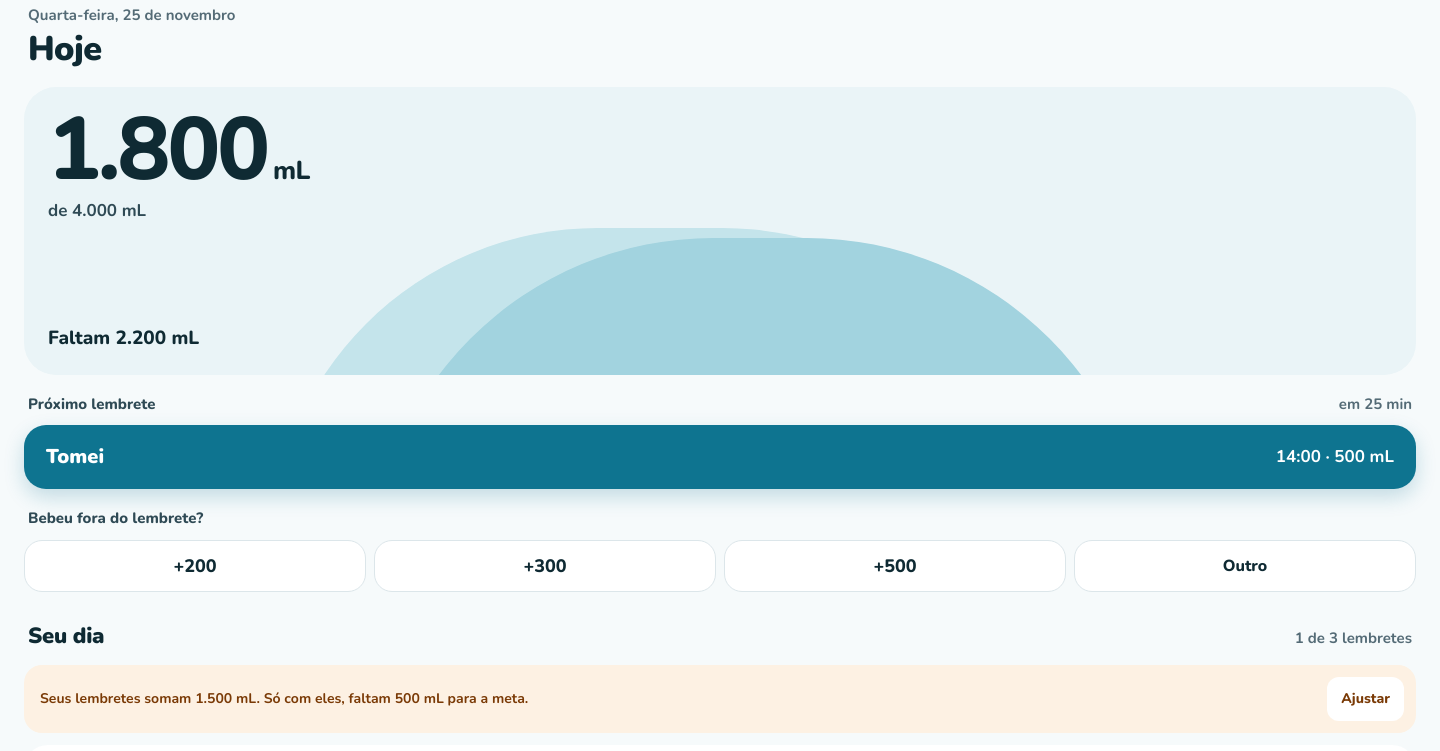
Test: WaterTodayPage (design "Módulo Água") › botão rápido +300 registra 300 mL
Click the button named "Registrar 300 mL" at coordinates (545, 566), box [374,540,716,592]
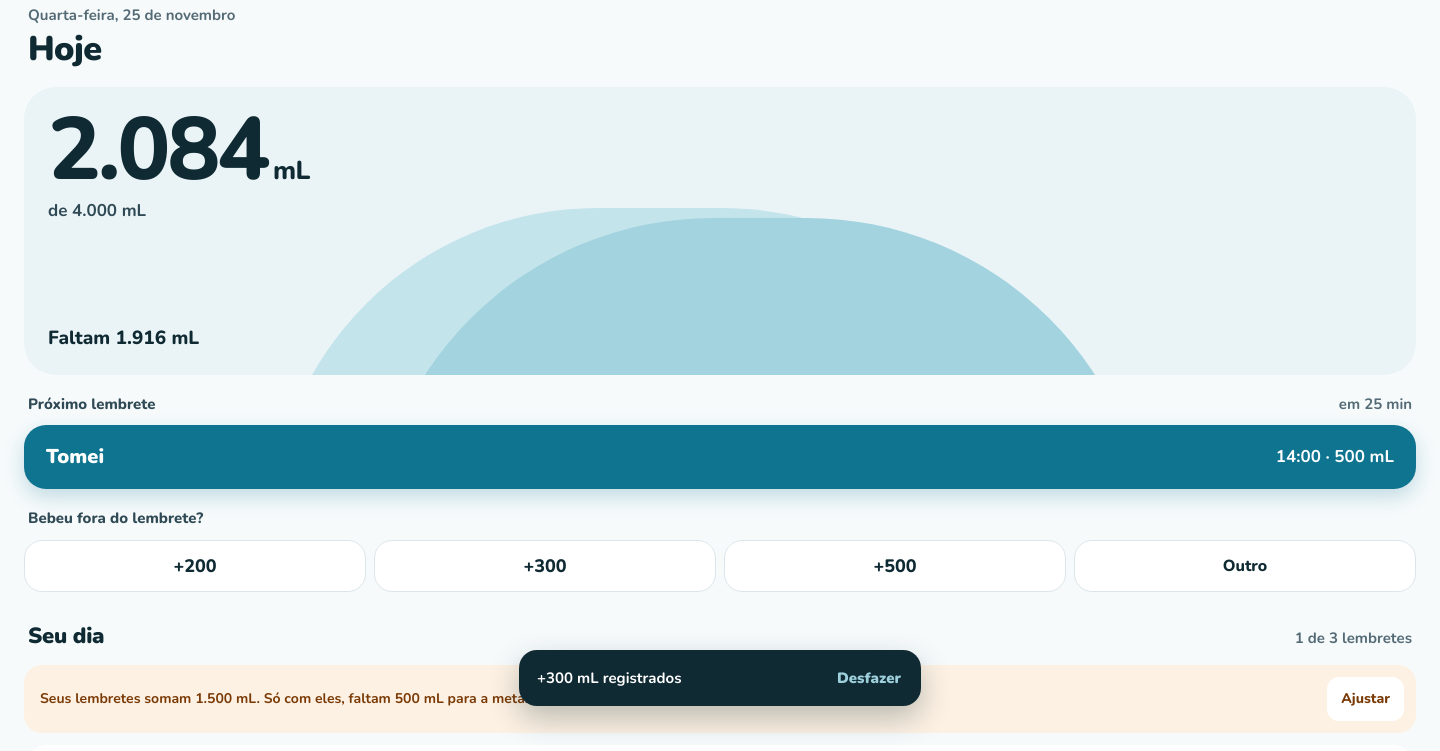
Now the text "+300 mL registrados" is shown, box [537,667,682,689]
